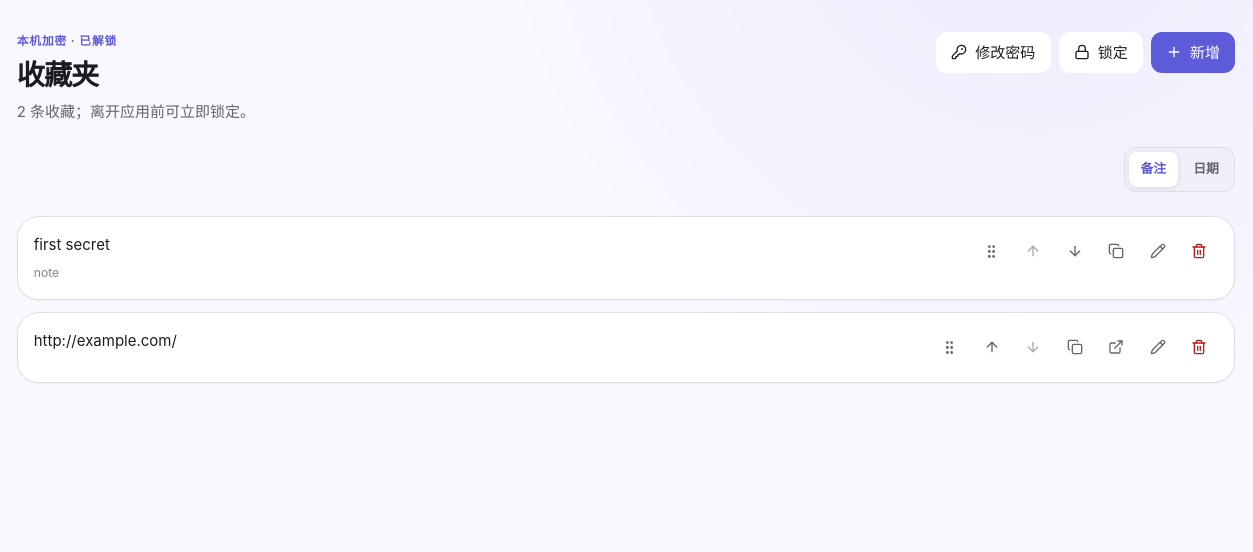
VaultPage › fails closed when Rust reports that the vault session changed
Step 1. Click the button named "复制正文" in the row of "first secret" → (1116, 251), box 1098,232 -> 1135,270
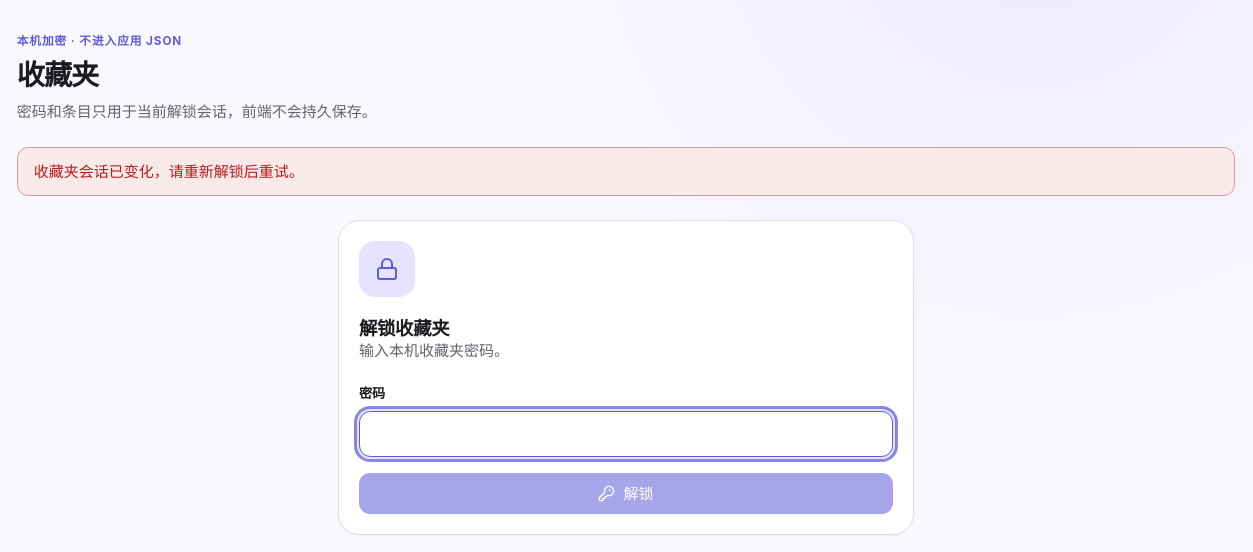
Result: the heading "解锁收藏夹" is shown at 359,315 -> 449,340
Result: the text "收藏夹会话已变化，请重新解锁后重试。" is shown at 17,147 -> 1235,196
Result: the text "first secret" is gone
